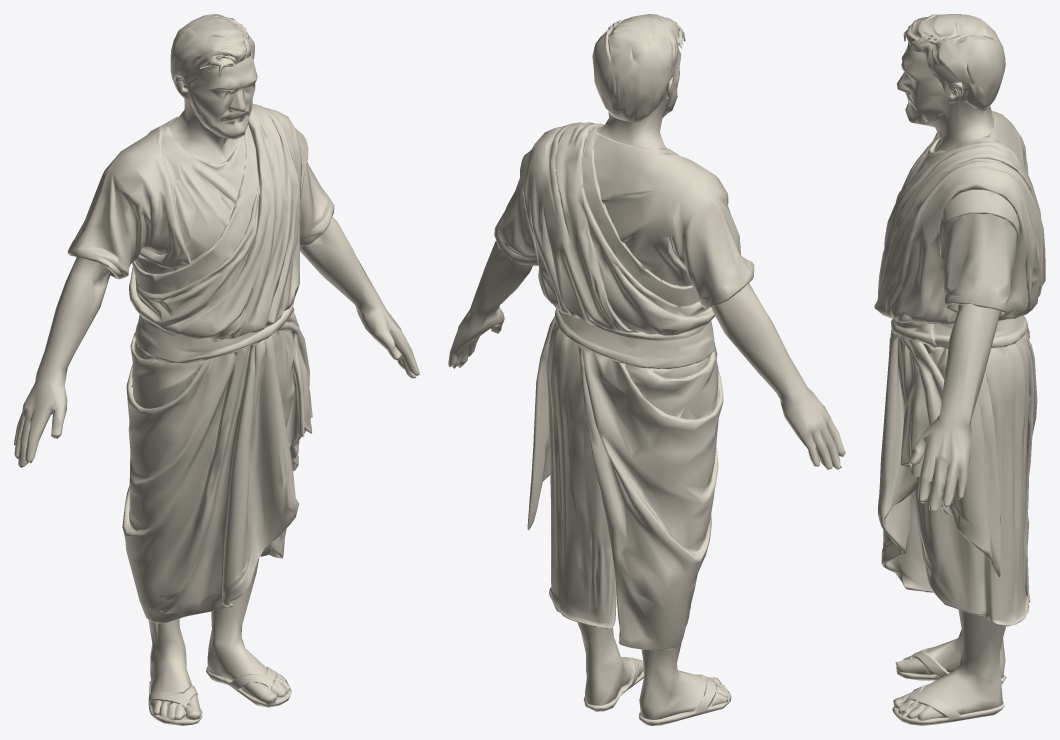
The model's file is tribuno.glb.
The picture shows the model from 3 angles, left to right: view 1: azimuth 30°, elevation 25°; view 2: azimuth 150°, elevation 25°; view 3: azimuth 270°, elevation 25°; orthographic projection.
Parts seen in each view (by area): view 1: tribuno; view 2: tribuno; view 3: tribuno.
Boxes of the visible parts, <box> form: tribuno: <box>14,14,419,725</box>; tribuno: <box>448,14,845,725</box>; tribuno: <box>874,14,1045,725</box>.
Size of the model in its own units: 1.09 by 1.8 by 0.4105.
